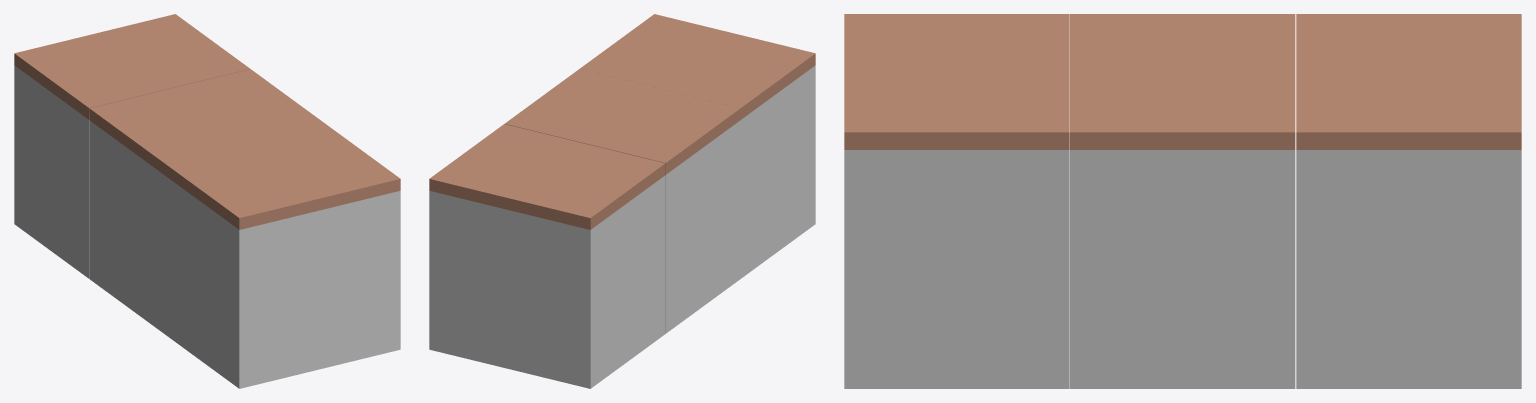
File: MeubleCuisineHauteurTriple.fbx
3 renders of one model, left to right at view 1: azimuth 30°, elevation 25°; view 2: azimuth 150°, elevation 25°; view 3: azimuth 270°, elevation 25°, orthographic. The views are drawn at different scales.
Visible parts, largest first — view 1: Cube.042; view 2: Cube.042; view 3: Cube.042.
Boxes of the visible parts, <box> form: Cube.042: <box>14,14,400,388</box>; Cube.042: <box>429,14,815,388</box>; Cube.042: <box>844,14,1521,388</box>.
Bounding box in the file's own units: 231 × 234 × 559.
